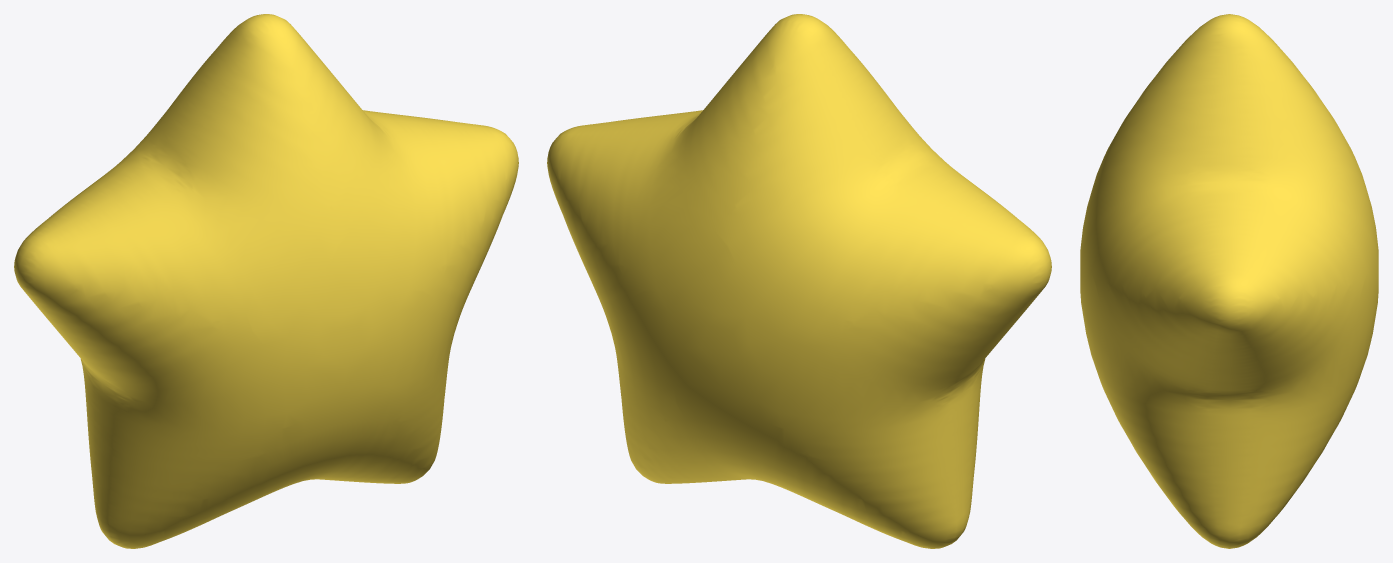
Rendered from staryellow.glb.
3 renders of one model, left to right at view 1: azimuth 30°, elevation 25°; view 2: azimuth 150°, elevation 25°; view 3: azimuth 270°, elevation 25°, orthographic. The views are drawn at different scales.
Visible parts, largest first — view 1: Star 2; view 2: Star 2; view 3: Star 2.
Part boxes in pixels (x1,y1,x2,y2): Star 2: [14, 14, 518, 548]; Star 2: [547, 14, 1051, 548]; Star 2: [1080, 14, 1378, 548].
Bounding box in the file's own units: 25.13 × 24.05 × 13.93.
